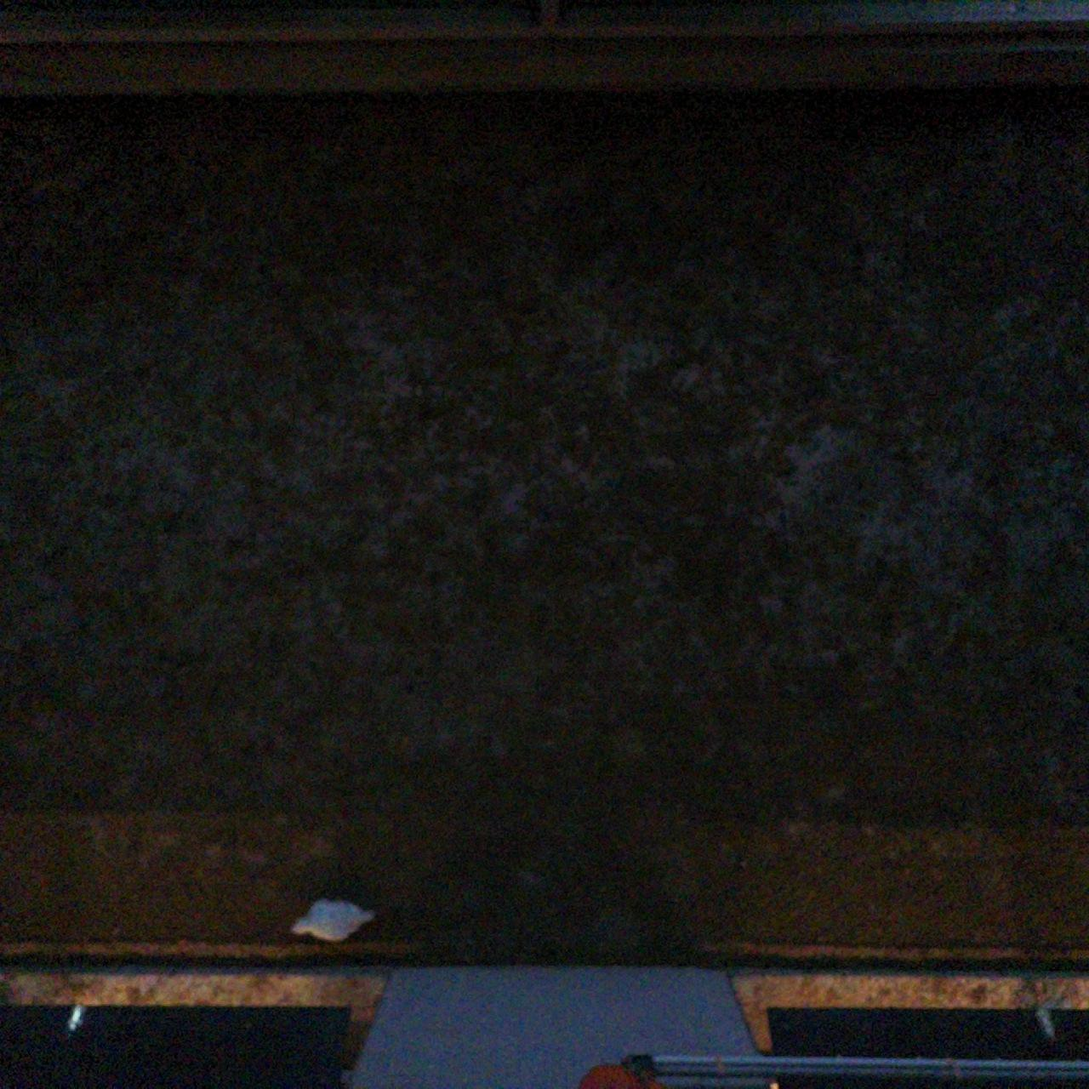chicken: (278, 890, 381, 949)
